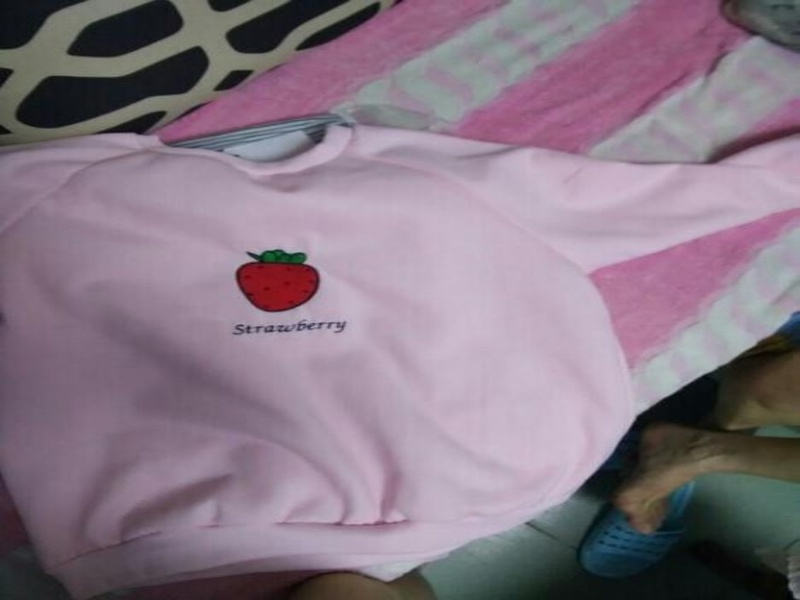long_sleeved_shirt: (0, 119, 798, 599)
